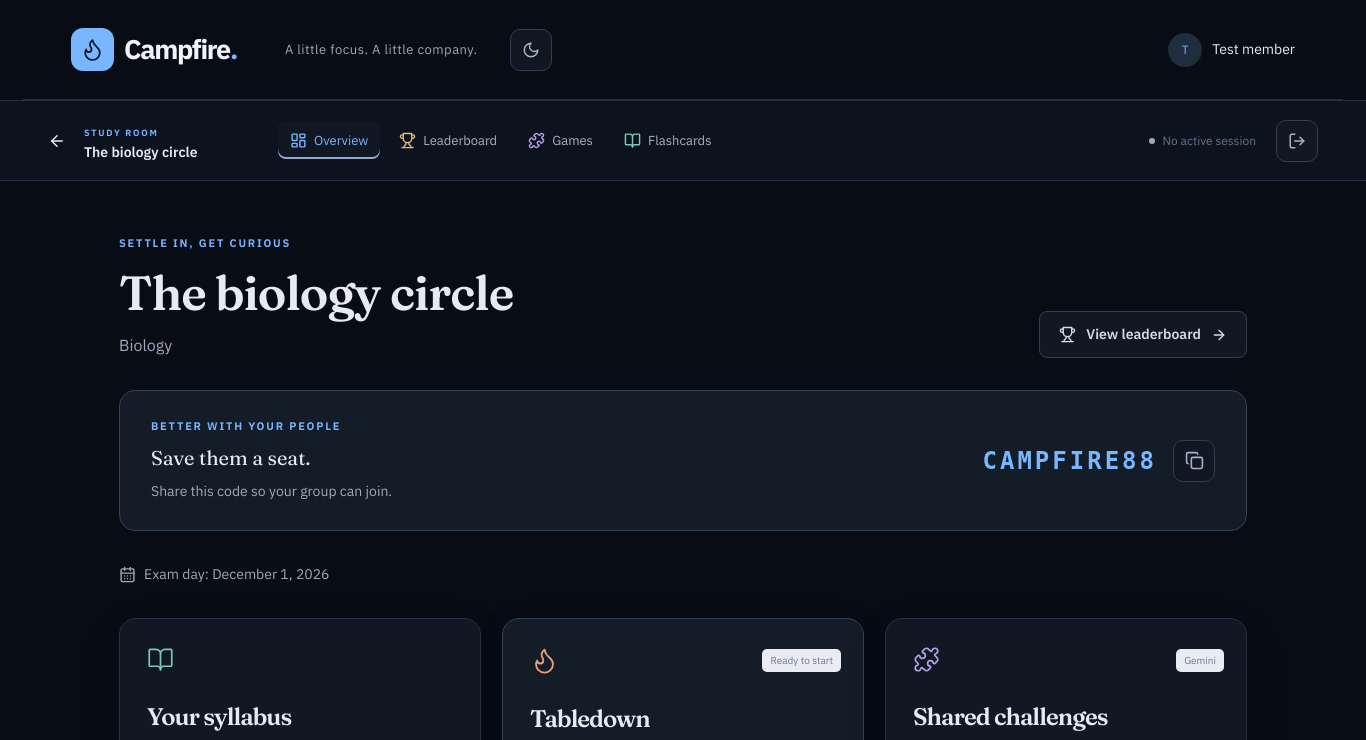
Test: Campfire app integration › keeps a failed leave visible, then returns to landing after a successful retry
The image size is (1366, 740).
Expected: the heading "The biology circle" is shown, top-left (119, 265), bottom-right (513, 320)
Click the button named "Leave room".
click(1297, 140)  # box top-left (1276, 120), bottom-right (1318, 162)
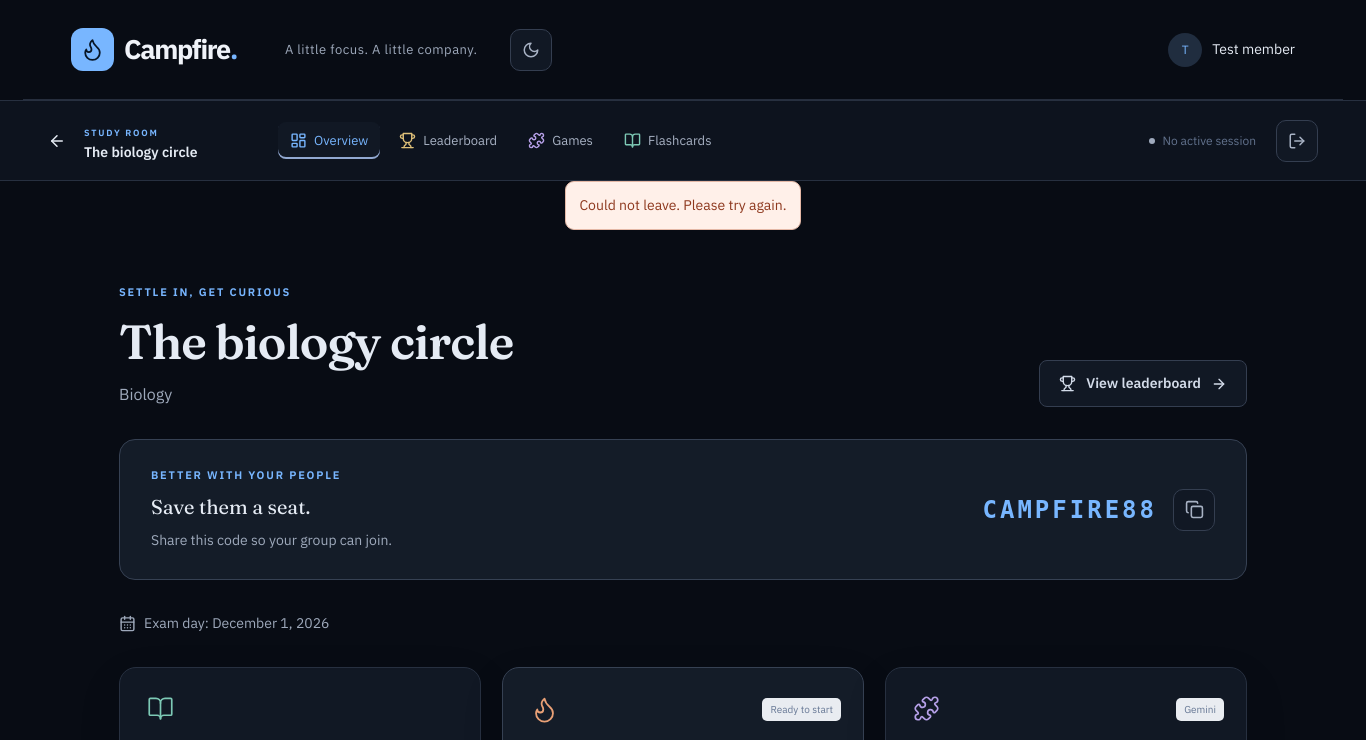
Expected: the message shows "Could not leave", top-left (579, 196), bottom-right (787, 214)
Click the button named "Leave room".
click(1297, 140)  # box top-left (1276, 120), bottom-right (1318, 162)
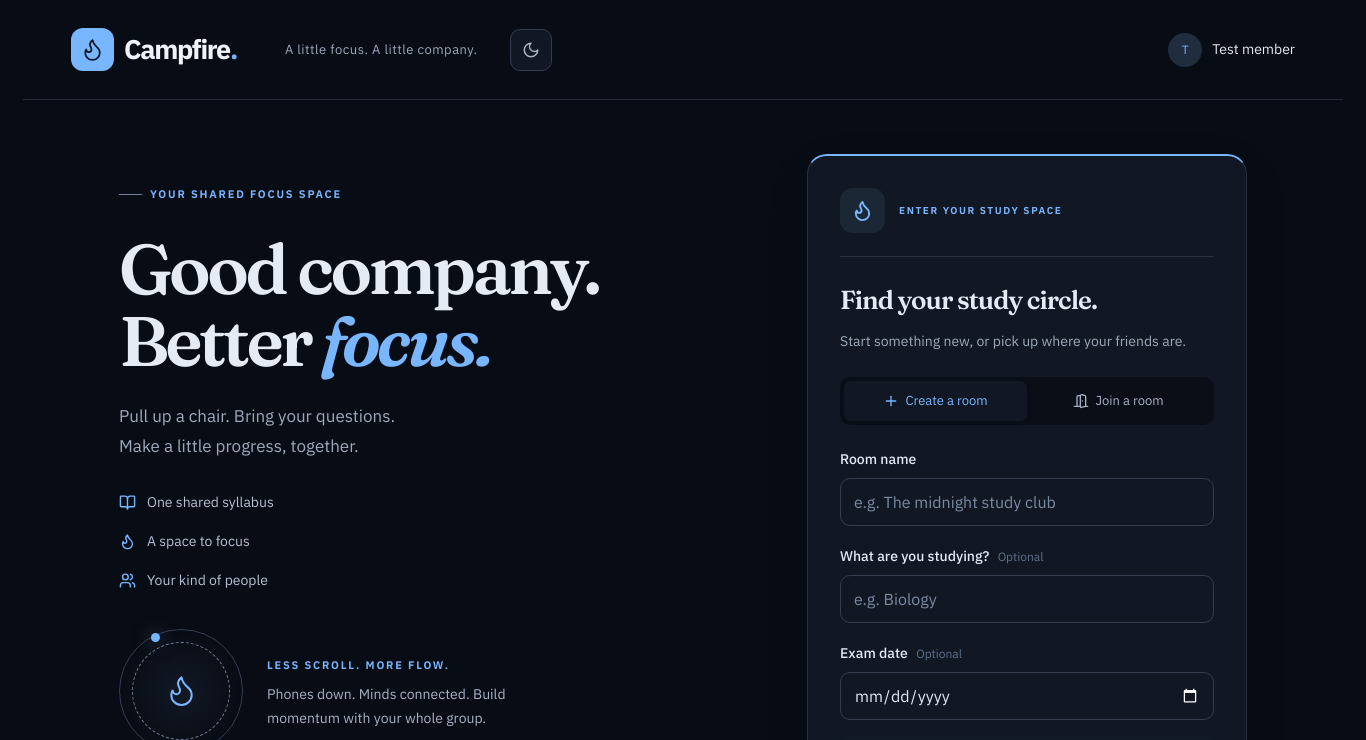
Expected: the heading "Find your study circle." is shown, top-left (840, 284), bottom-right (1097, 316)
